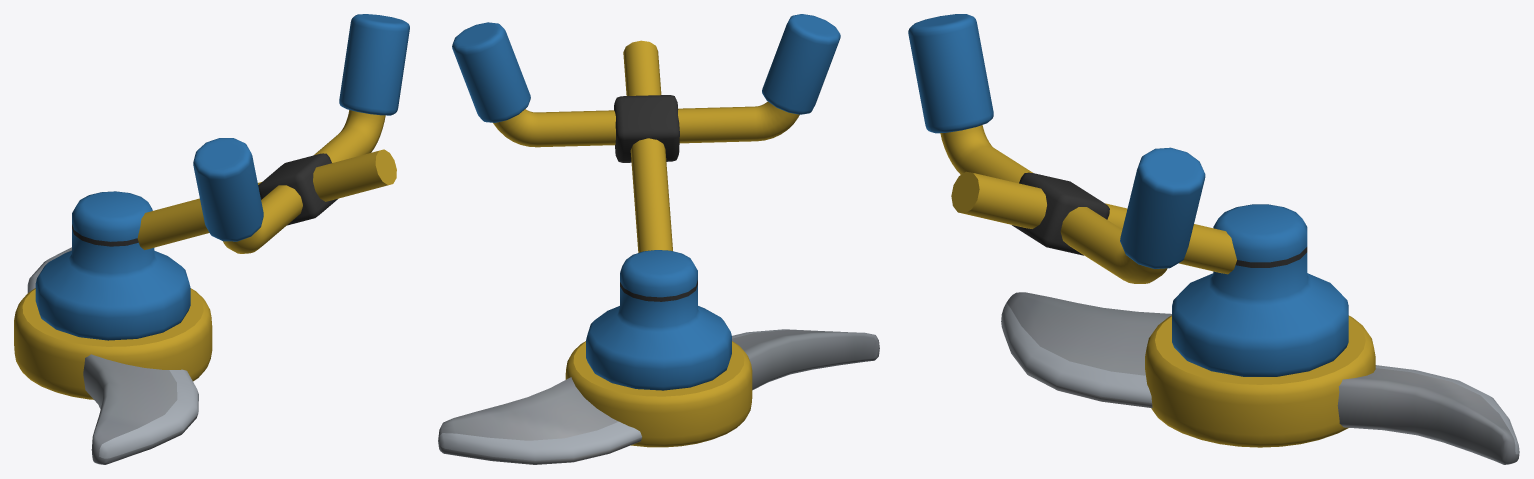
The model's file is BrushCutter-Animated.fbx.
The picture shows the model from 3 angles, left to right: view 1: azimuth 30°, elevation 25°; view 2: azimuth 150°, elevation 25°; view 3: azimuth 270°, elevation 25°; orthographic projection. The views are drawn at different scales.
Parts seen in each view (by area): view 1: BrushCutter-Animated, CutterBlade; view 2: BrushCutter-Animated, CutterBlade; view 3: BrushCutter-Animated, CutterBlade.
Part boxes in pixels (box(x1,y1,x2,y2)): BrushCutter-Animated: box(35, 14, 409, 340); CutterBlade: box(14, 247, 212, 464); BrushCutter-Animated: box(452, 14, 840, 390); CutterBlade: box(438, 329, 879, 464); BrushCutter-Animated: box(908, 14, 1348, 376); CutterBlade: box(1001, 292, 1519, 464).
Size of the model in its own units: 12.01 by 9.71 by 14.38.
